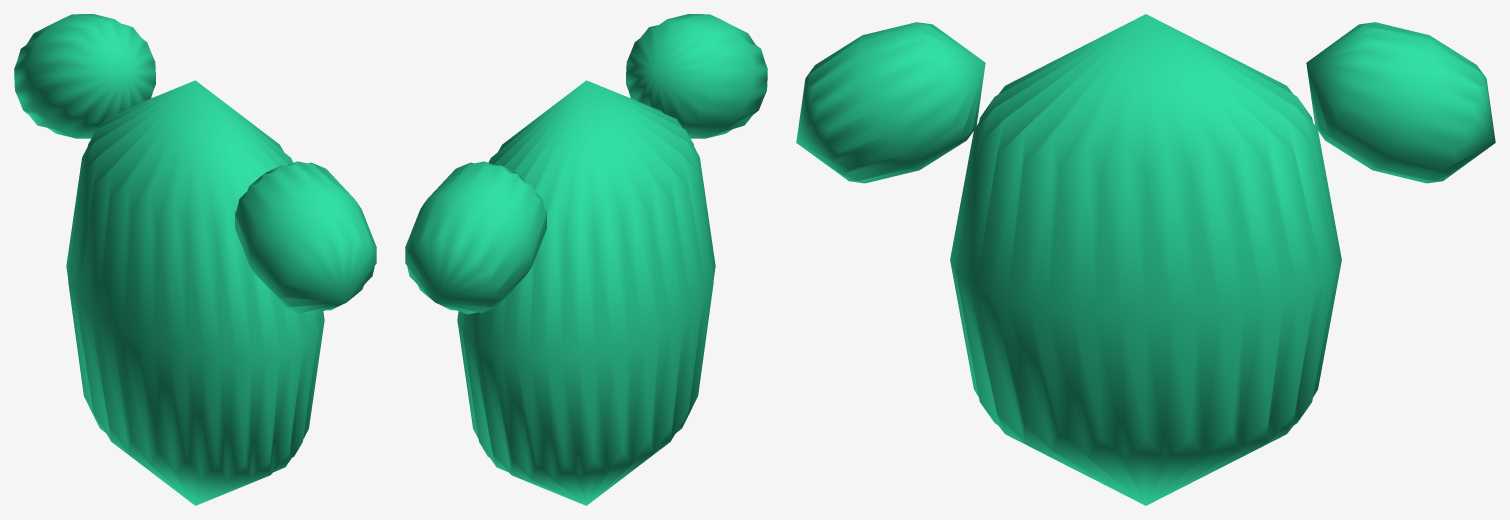
File: SM_Craquez_Jersey.fbx
3 views of the same model, side by side, from view 1: azimuth 30°, elevation 25°; view 2: azimuth 150°, elevation 25°; view 3: azimuth 270°, elevation 25° (orthographic). The views are drawn at different scales.
Parts seen in each view (by area): view 1: SM_Craquez_Jersey; view 2: SM_Craquez_Jersey; view 3: SM_Craquez_Jersey.
Part boxes in pixels (x1,y1,x2,y2): SM_Craquez_Jersey: (14,14,376,505); SM_Craquez_Jersey: (405,14,767,505); SM_Craquez_Jersey: (796,14,1495,505).
Bounding box in the file's own units: 0.2561 × 0.6857 × 0.5321.
